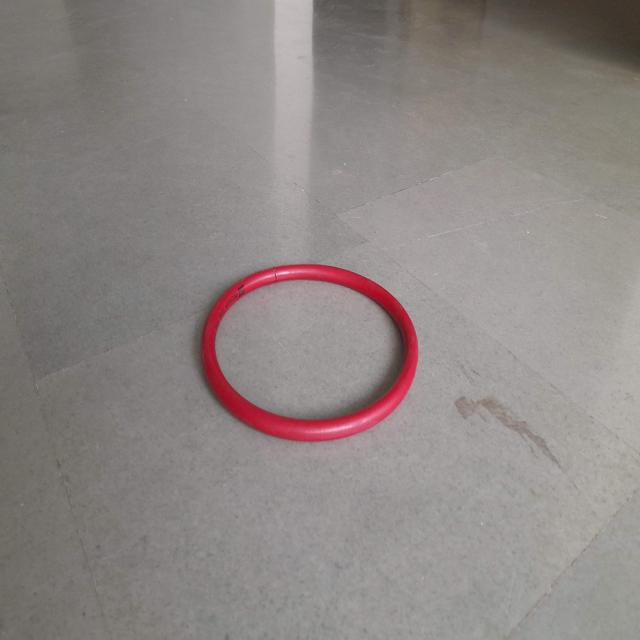daire: (203, 262, 420, 446)
